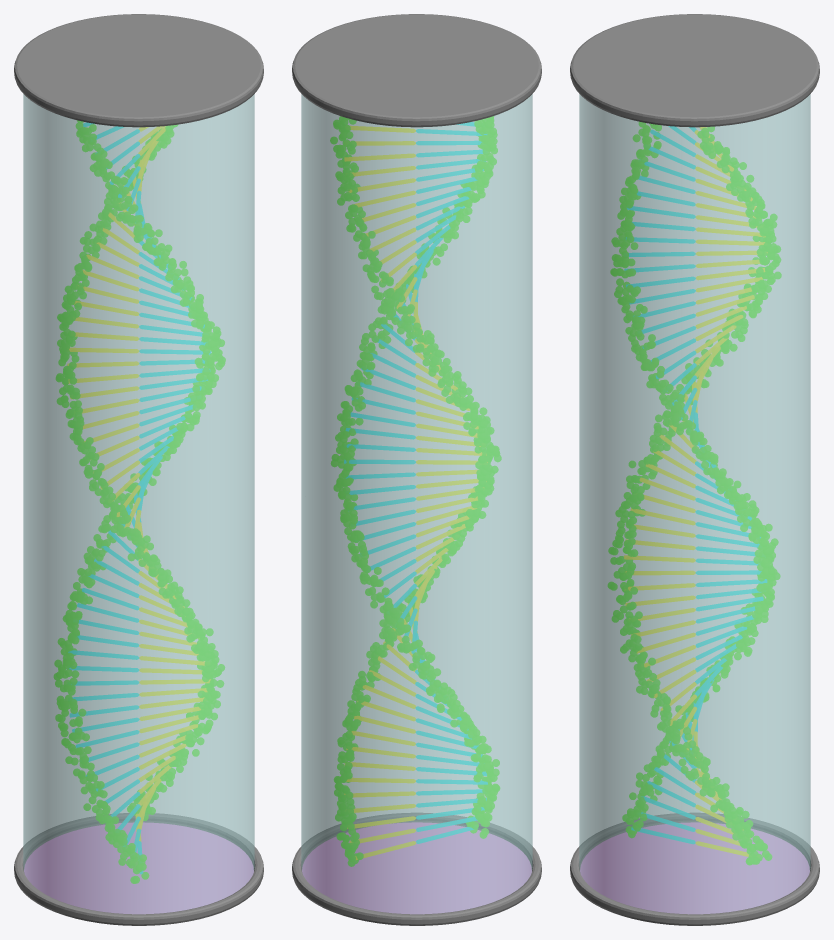
File: dna-v1.glb
The picture shows the model from 3 angles, left to right: view 1: azimuth 30°, elevation 25°; view 2: azimuth 150°, elevation 25°; view 3: azimuth 270°, elevation 25°; orthographic projection.
Visible parts, largest first — view 1: Object157, Cylinder028, Sphere448, Object282, Group170, Shape022; view 2: Object157, Cylinder028, Sphere448, Object282, Group170, Shape022; view 3: Object157, Cylinder028, Sphere448, Object282, Group170, Shape022.
Boxes of the visible parts, x1,y1,x2,y2 form: Object157: (23, 94, 254, 914); Cylinder028: (14, 14, 263, 925); Sphere448: (54, 120, 225, 883); Object282: (24, 822, 253, 913); Group170: (68, 122, 210, 873); Shape022: (67, 126, 210, 840); Object157: (301, 94, 532, 914); Cylinder028: (292, 14, 541, 925); Sphere448: (330, 116, 501, 866); Object282: (302, 822, 531, 913); Group170: (344, 122, 487, 843); Shape022: (344, 126, 487, 859); Object157: (579, 94, 810, 914); Cylinder028: (570, 14, 819, 925); Sphere448: (608, 122, 781, 864); Object282: (580, 822, 809, 913); Group170: (624, 126, 766, 843); Shape022: (624, 127, 767, 856).
Size of the model in its own units: 0.6368 by 2.27 by 0.6368.
Materials: 6 (1 with a texture image).
